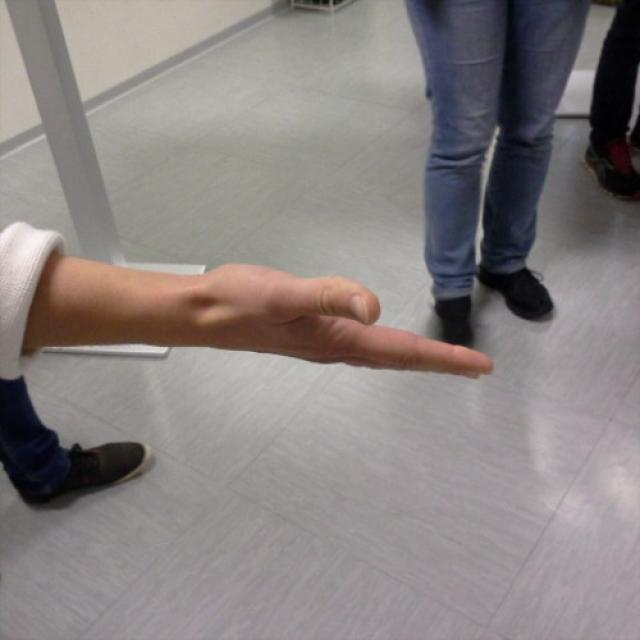paper: (205, 260, 496, 382)
